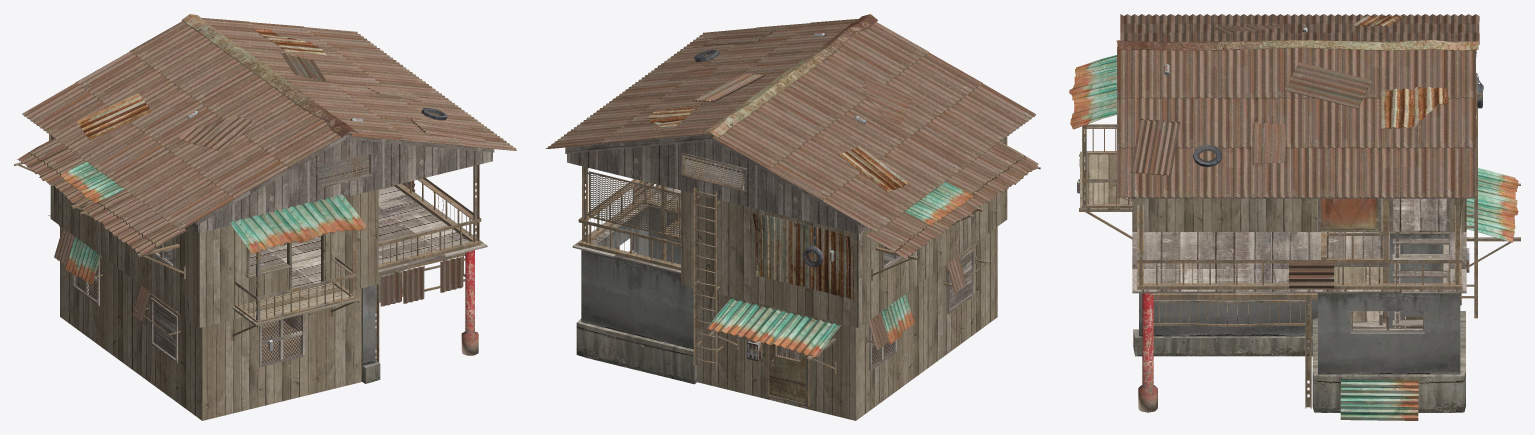
Rendered from old__house__wooden__enterable__rusty.glb.
3 renders of one model, left to right at view 1: azimuth 30°, elevation 25°; view 2: azimuth 150°, elevation 25°; view 3: azimuth 270°, elevation 25°, orthographic. The views are drawn at different scales.
Visible parts, largest first — view 1: Zinc_zinc_0, WoodWall_woodwall_0, Woods_woods_0, Irons_iron_0, Others_others_0, TilesGlass_tilesglass_0; view 2: Zinc_zinc_0, WoodWall_woodwall_0, Others_others_0, Woods_woods_0, Irons_iron_0, TilesGlass_tilesglass_0; view 3: Zinc_zinc_0, Others_others_0, Woods_woods_0, Irons_iron_0, WoodWall_woodwall_0.
Part boxes in pixels (<box>): Zinc_zinc_0: <box>17,17,516,321</box>; WoodWall_woodwall_0: <box>50,135,378,420</box>; Woods_woods_0: <box>21,133,494,367</box>; Irons_iron_0: <box>14,162,481,362</box>; Others_others_0: <box>181,14,478,383</box>; TilesGlass_tilesglass_0: <box>75,154,369,363</box>; Zinc_zinc_0: <box>545,19,1038,357</box>; WoodWall_woodwall_0: <box>681,136,1007,420</box>; Others_others_0: <box>576,14,877,384</box>; Woods_woods_0: <box>565,134,974,371</box>; Irons_iron_0: <box>578,166,1040,406</box>; TilesGlass_tilesglass_0: <box>585,155,897,366</box>; Zinc_zinc_0: <box>1069,14,1518,420</box>; Others_others_0: <box>1077,26,1483,412</box>; Woods_woods_0: <box>1080,151,1471,332</box>; Irons_iron_0: <box>1079,73,1520,408</box>; WoodWall_woodwall_0: <box>1132,198,1466,327</box>.
Bounding box in the file's own units: 11.63 × 8.2 × 11.32.
Materials: 6 (6 with a texture image).
